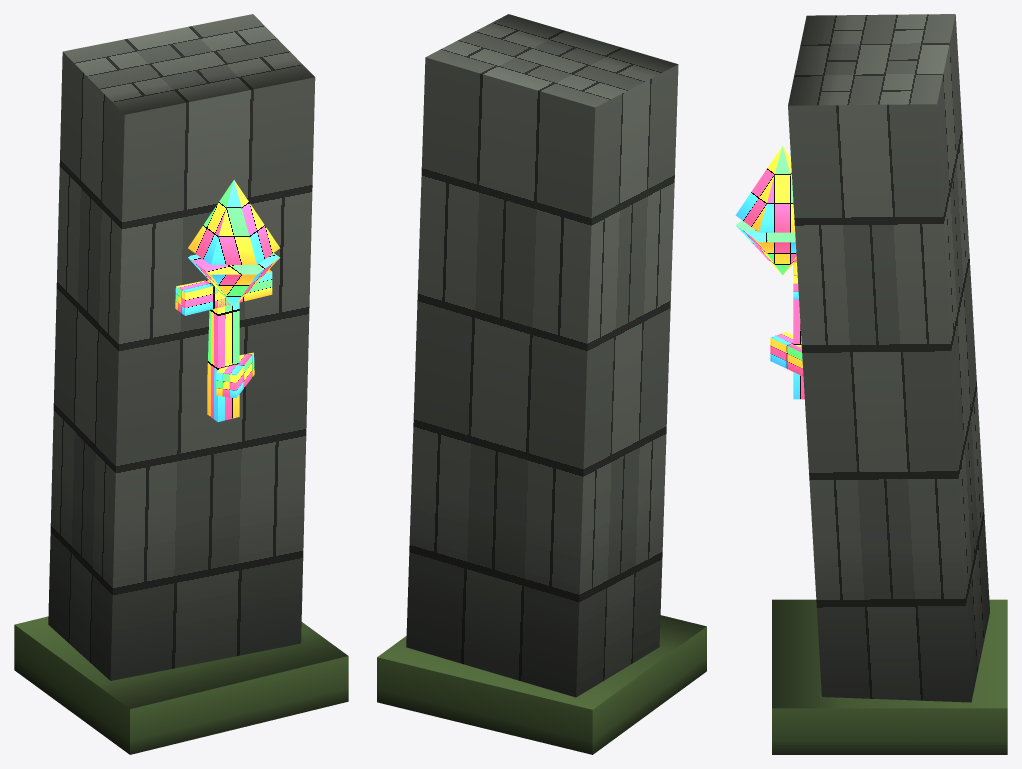
The model's file is standing_stone.glb.
3 views of the same model, side by side, from view 1: azimuth 30°, elevation 25°; view 2: azimuth 150°, elevation 25°; view 3: azimuth 270°, elevation 25° (orthographic). The views are drawn at different scales.
Visible parts, largest first — view 1: standing_stone; view 2: standing_stone; view 3: standing_stone.
Part boxes in pixels (x1=…): standing_stone: x1=14, y1=14, x2=348, y2=754; standing_stone: x1=377, y1=14, x2=706, y2=754; standing_stone: x1=735, y1=14, x2=1007, y2=754.
Bounding box in the file's own units: 0.6 × 1.66 × 0.635.
1 material, 1 textured.
